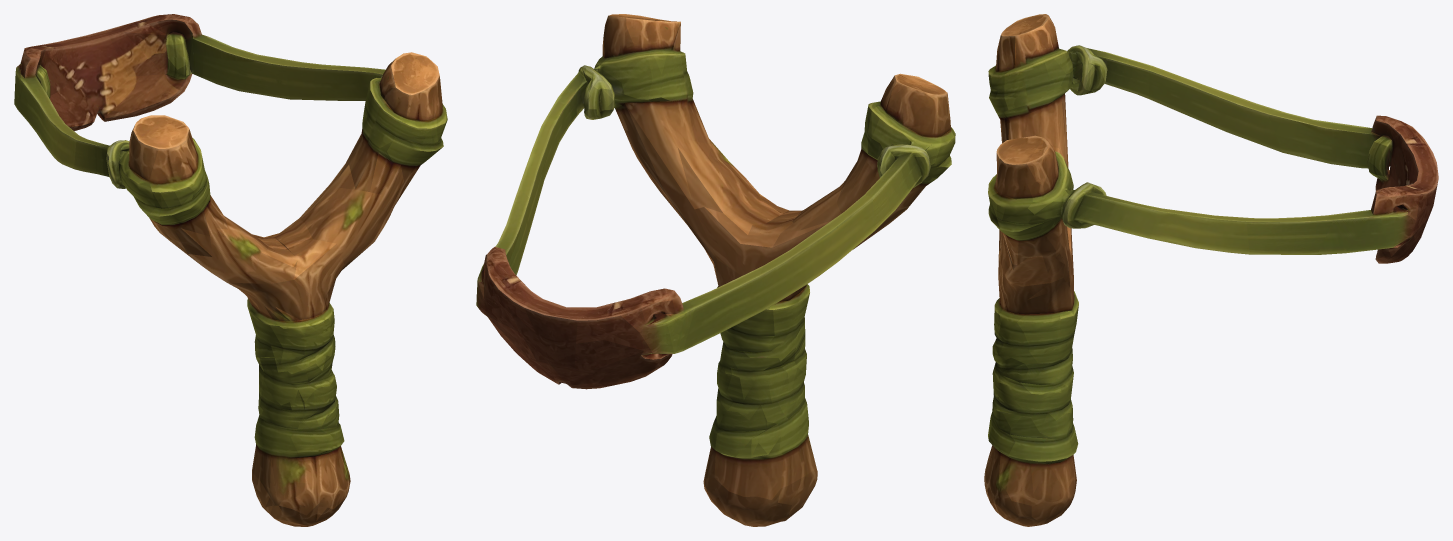
Rendered from gremlin-slingshot.hq.glb.
The picture shows the model from 3 angles, left to right: view 1: azimuth 30°, elevation 25°; view 2: azimuth 150°, elevation 25°; view 3: azimuth 270°, elevation 25°; orthographic projection. The views are drawn at different scales.
Visible parts, largest first — view 1: output_unwrapped; view 2: output_unwrapped; view 3: output_unwrapped.
Part boxes in pixels (box(x1,y1,x2,y2)): output_unwrapped: box(14, 14, 447, 526); output_unwrapped: box(476, 14, 955, 526); output_unwrapped: box(984, 14, 1438, 526).
Size of the model in its own units: 1.44 by 1.9 by 1.81.
1 material, 1 textured.
